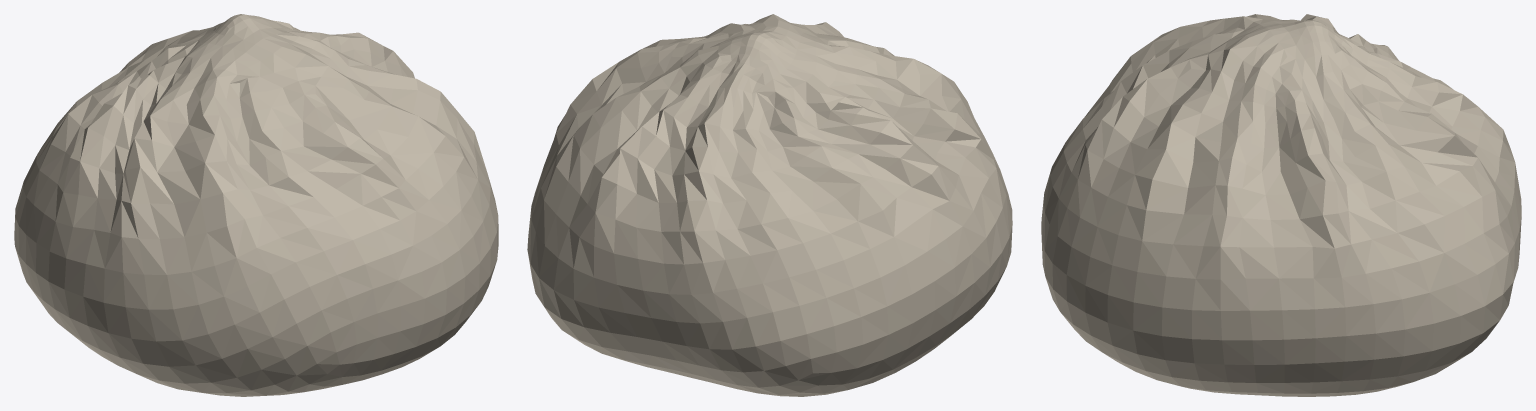
File: dough.glb
3 renders of one model, left to right at view 1: azimuth 30°, elevation 25°; view 2: azimuth 150°, elevation 25°; view 3: azimuth 270°, elevation 25°, orthographic.
Visible parts, largest first — view 1: Node; view 2: Node; view 3: Node.
Boxes of the visible parts, x1=… form: Node: x1=14, y1=14, x2=498, y2=396; Node: x1=527, y1=14, x2=1012, y2=396; Node: x1=1041, y1=14, x2=1521, y2=396.
Size of the model in its own units: 2.03 by 1.5 by 2.01.
